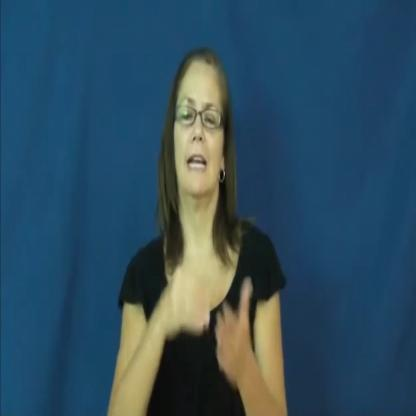Expensive: (146, 230, 271, 406)
